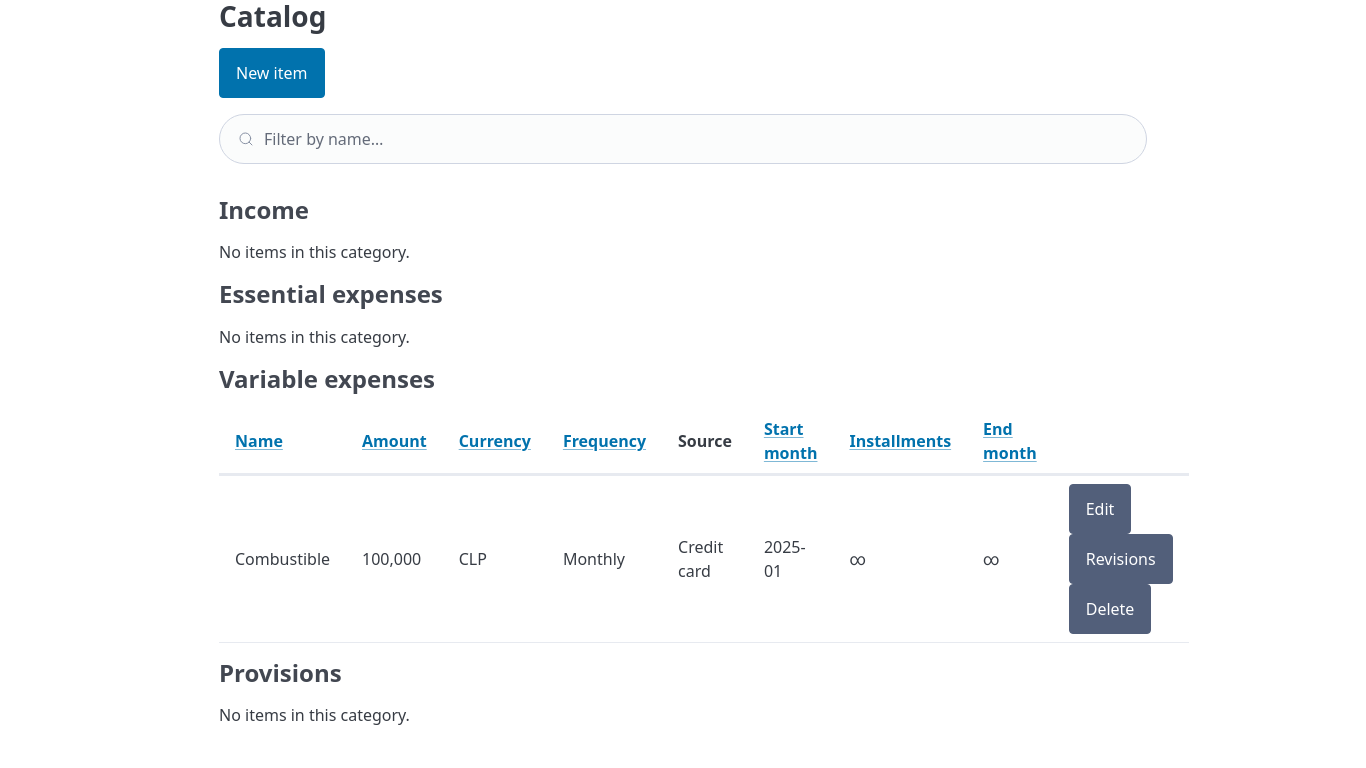
Test case: CatalogView › adds a new revision via the revisions dialog
This screenshot has width=1366, height=768.
Click the button "Revisions" at {"x": 1121, "y": 559}, box 1069,534 -> 1173,584
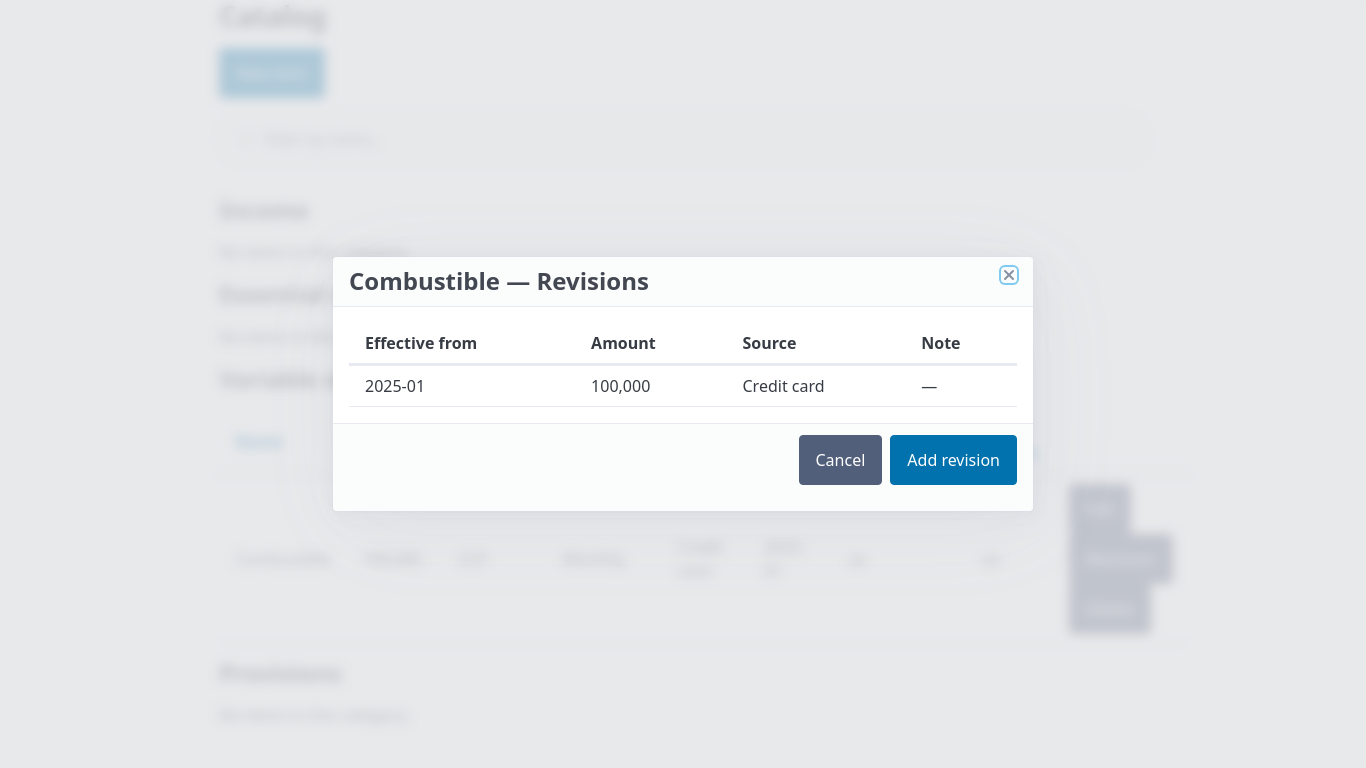
Click the button "Add revision" at {"x": 954, "y": 460}, box 890,435 -> 1017,485
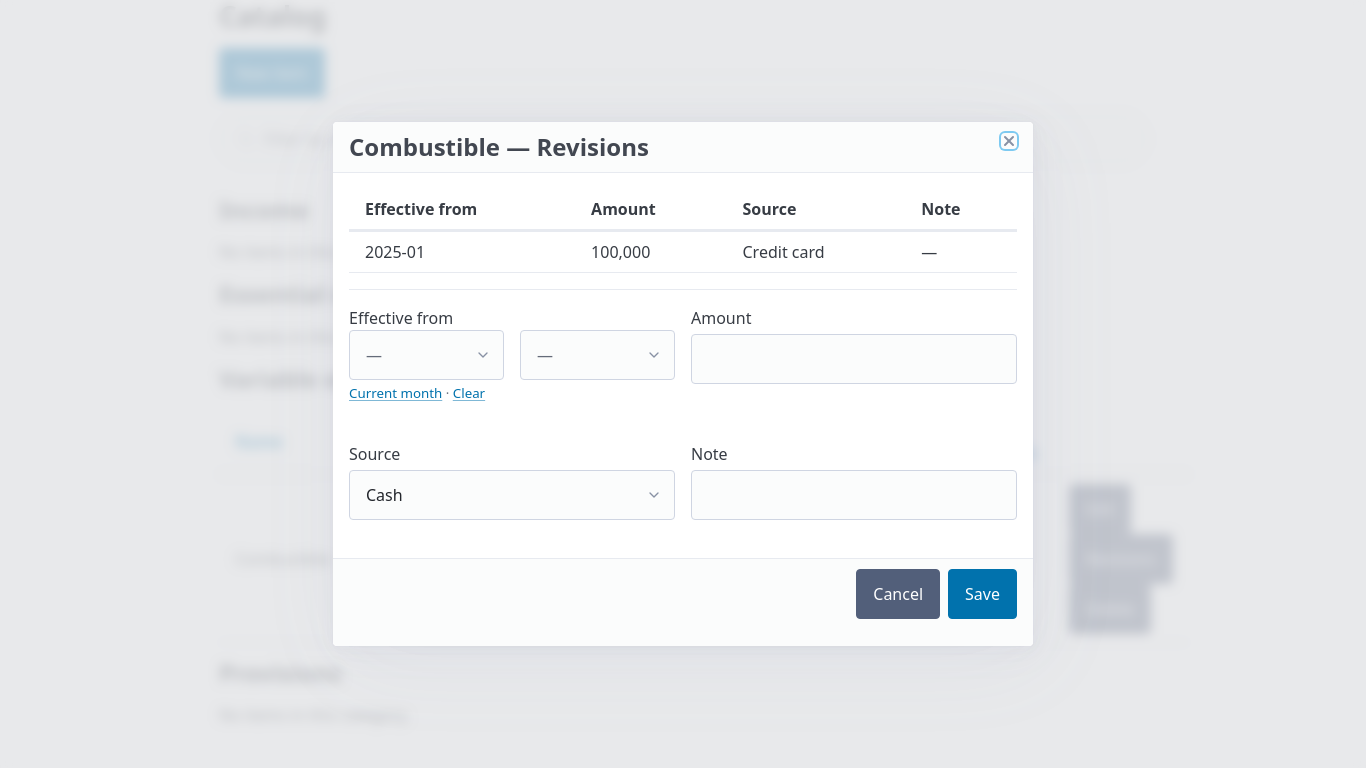
Select "2026" in the dropdown labelled "Effective from Current month · Clear" at {"x": 426, "y": 355}, box 349,330 -> 504,380
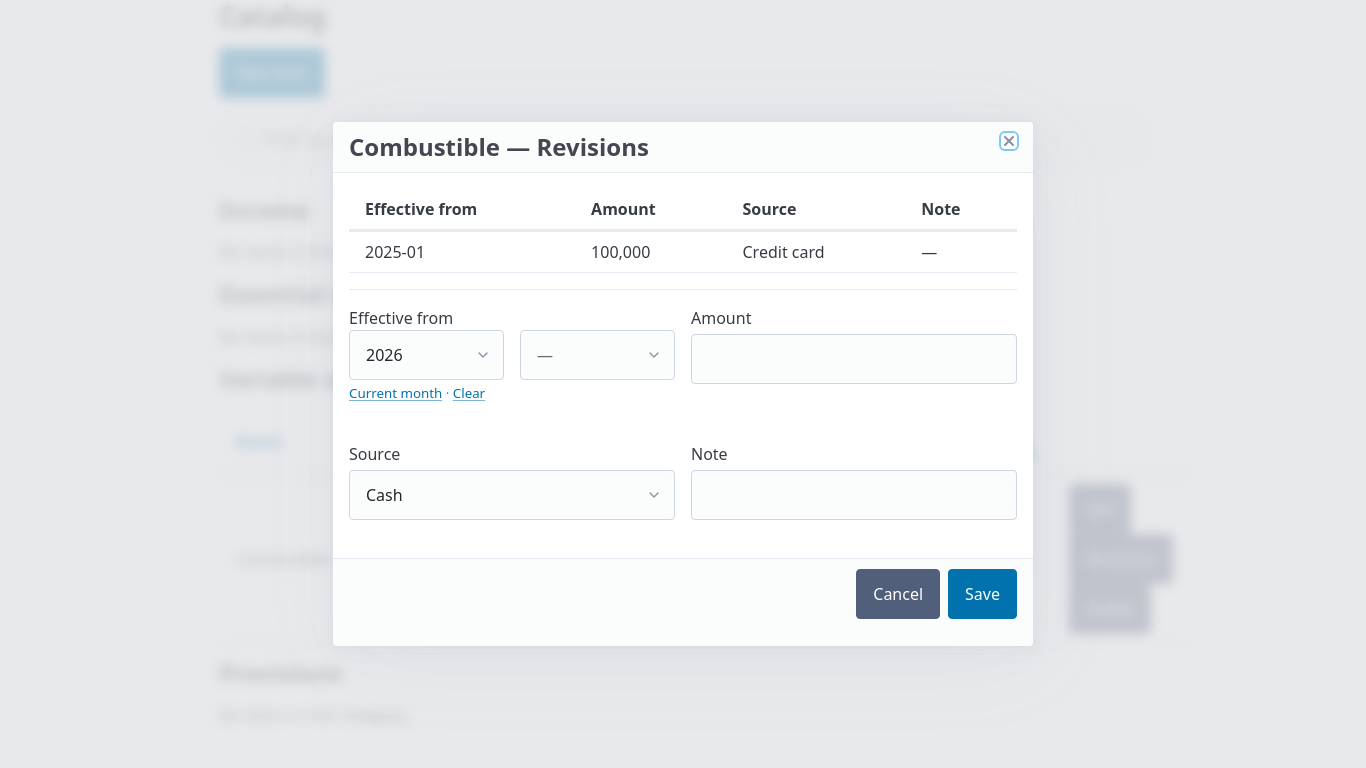
Select "January" in the 2nd dropdown at {"x": 598, "y": 355}, box 520,330 -> 675,380
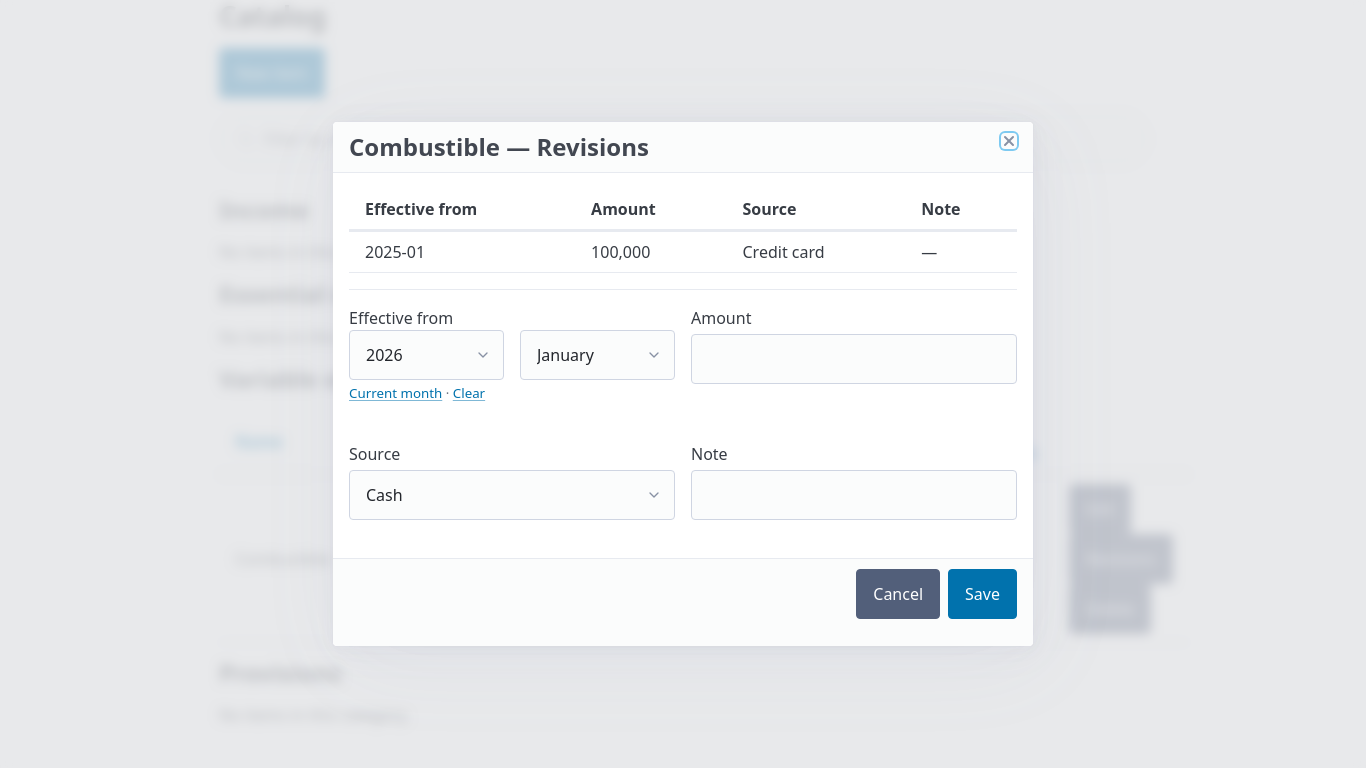
Type "120000" into the number field labelled "Amount" at {"x": 854, "y": 359}, box 691,334 -> 1017,384
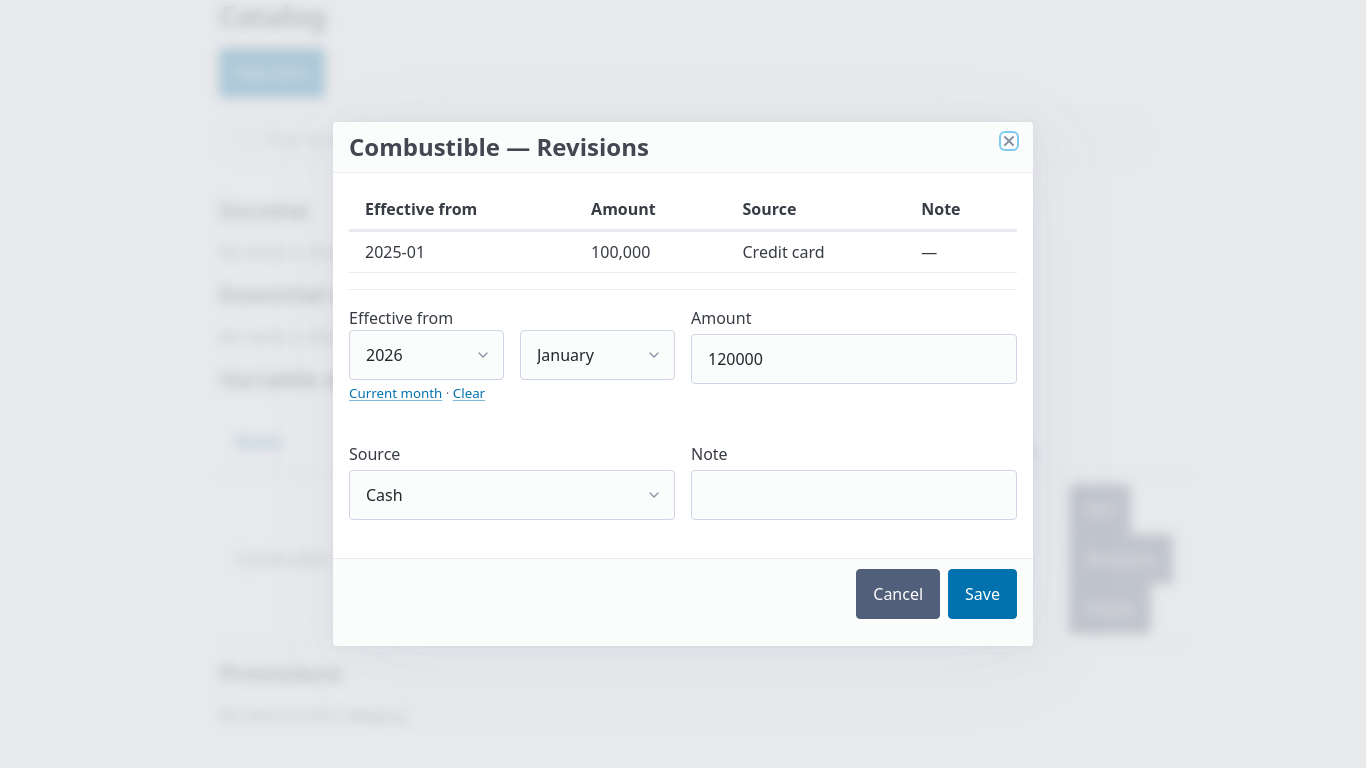
Submit the form with id "add-revision-form", box 349,306 -> 1017,542
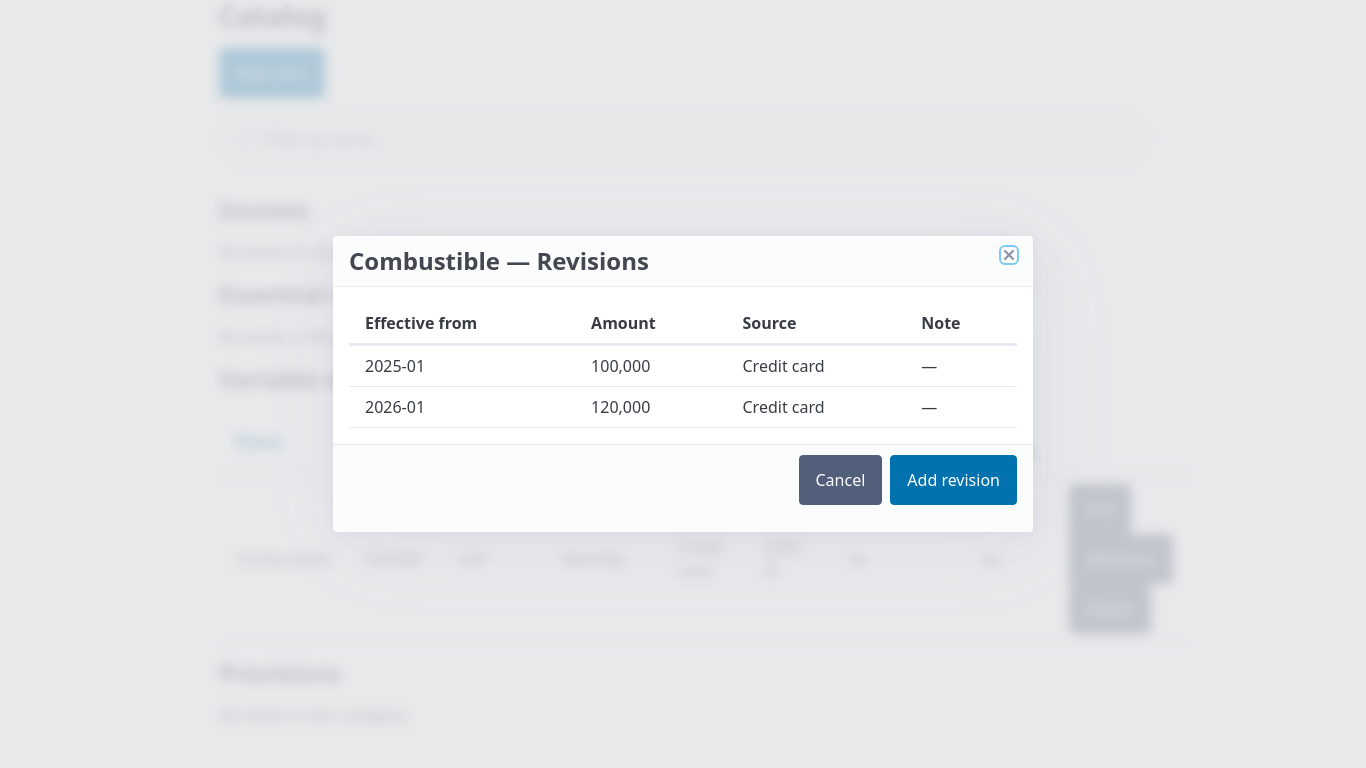
Expected: the text "2026-01" is shown, 349,386 -> 575,427
